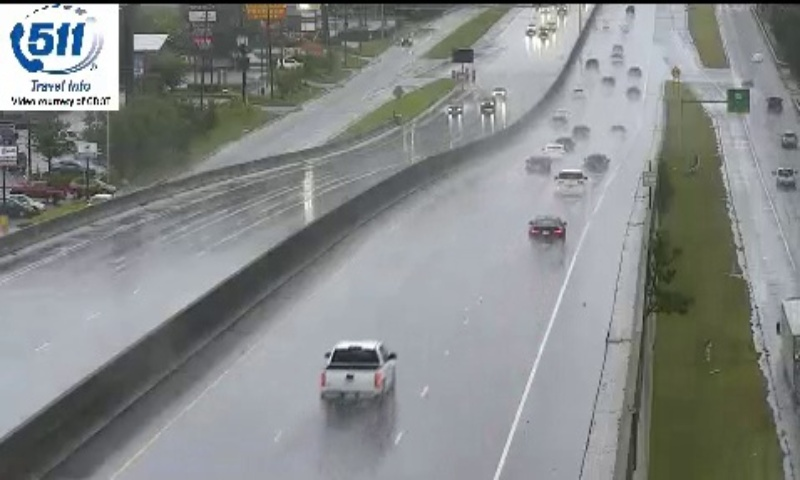car: (323, 340, 396, 403), (528, 217, 564, 245), (555, 169, 585, 198)
